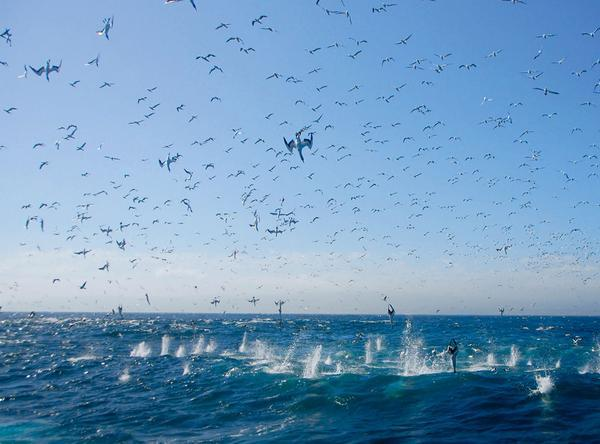bird: (275, 126, 316, 159), (28, 56, 66, 81)
